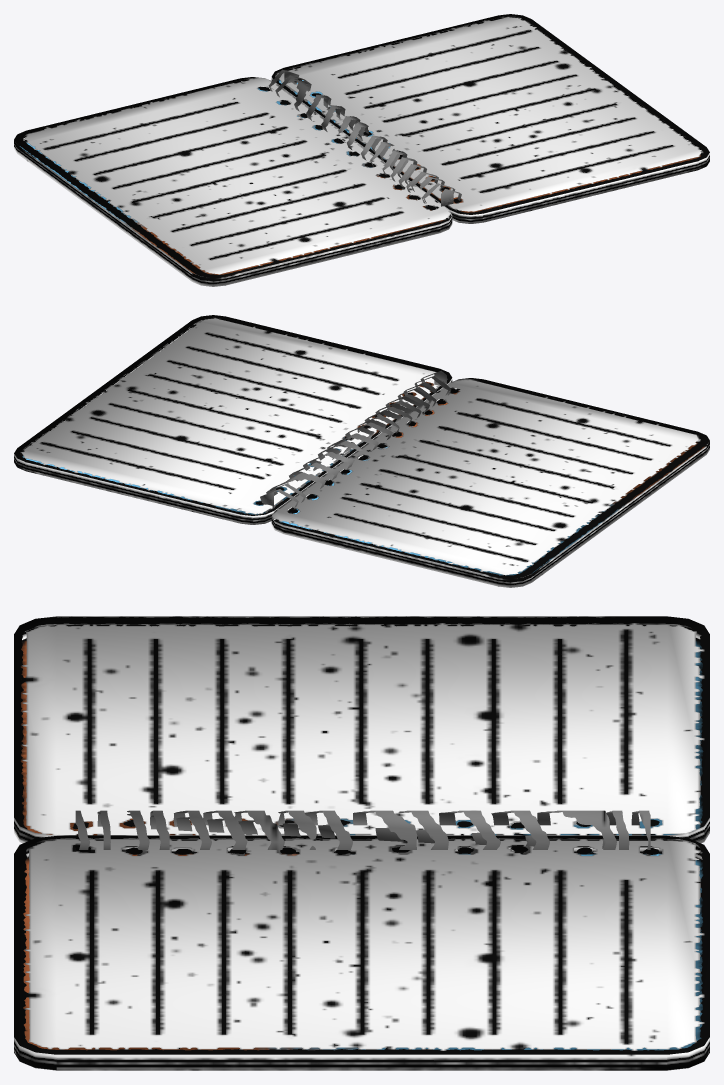
The model's file is notebook_open.obj.
The picture shows the model from 3 angles, top to bottom: view 1: azimuth 30°, elevation 25°; view 2: azimuth 150°, elevation 25°; view 3: azimuth 270°, elevation 25°; orthographic projection. The views are drawn at different scales.
Visible parts, largest first — view 1: Cube.001; view 2: Cube.001; view 3: Cube.001.
Boxes of the visible parts, x1,y1,x2,y2 form: Cube.001: [14, 14, 709, 286]; Cube.001: [14, 315, 709, 587]; Cube.001: [14, 616, 709, 1070].
Size of the model in its own units: 3.08 by 0.1463 by 2.06.
